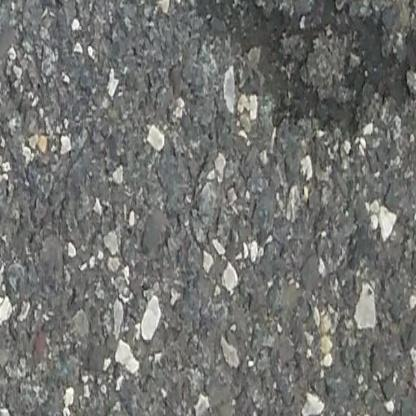Cracks: (190, 0, 416, 146)
